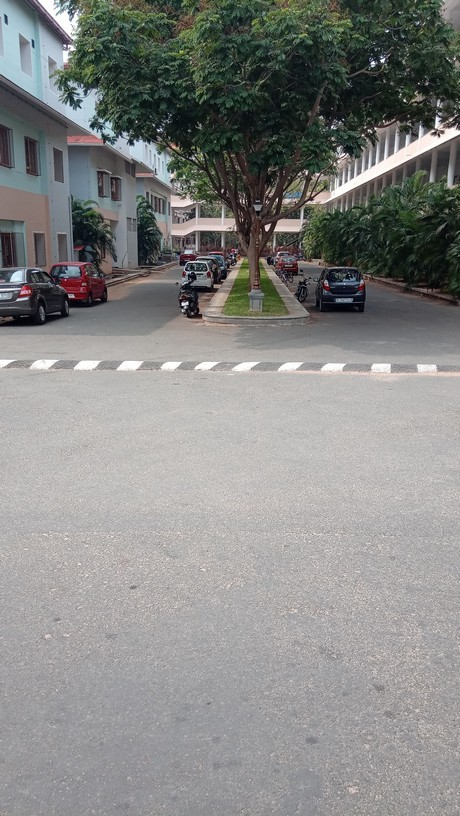bump: (1, 355, 459, 382)
